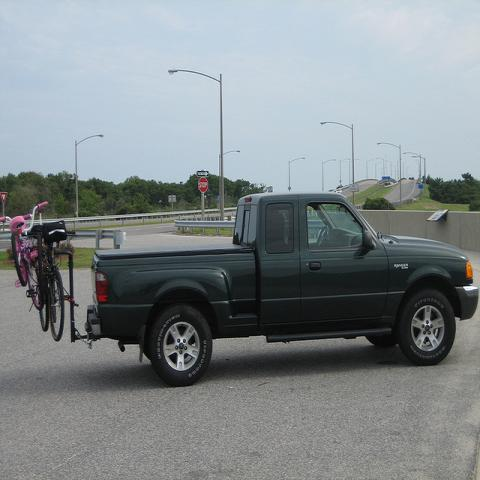truck: (83, 195, 479, 394)
